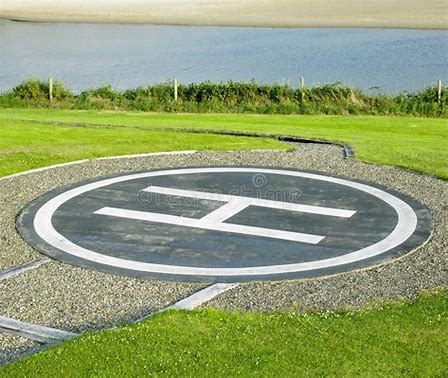H: (92, 185, 358, 245)
